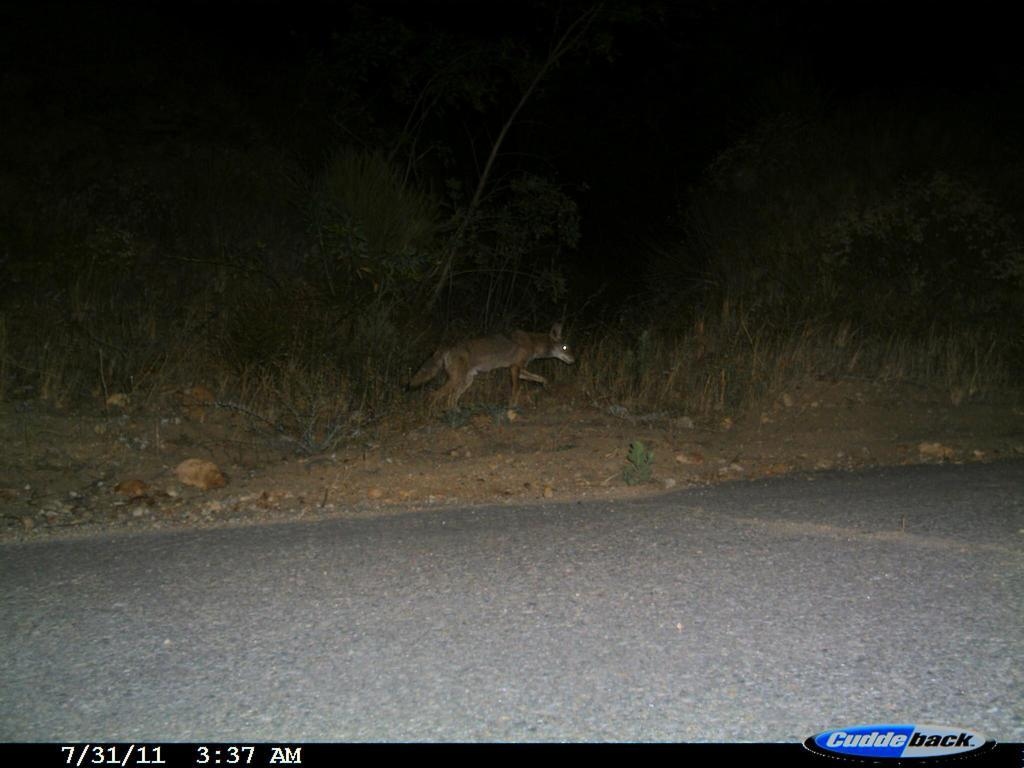coyote: (404, 315, 584, 423)
